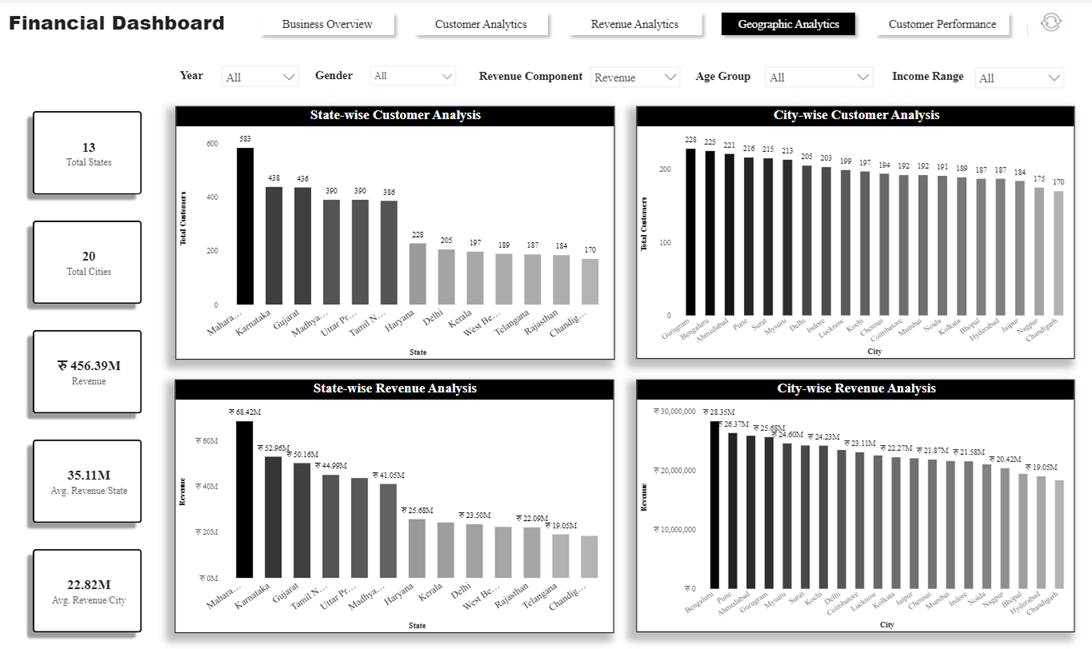

The dashboard page shown, as its layout file describes it:
{"tool":"powerbi","page":{"name":"Geographic Analytics","canvas":[1500,900],"ordinal":3},"visuals":[{"type":"group","id":"g1","title":"Group 1","box":[225,76.8,191.2,48.2],"z":0,"group":"g2"},{"type":"cardVisual","fields":{"Data":["customers csv.Total States","customers csv.Total Cities","finance_transactions csv.Revenue","customers csv.Avg. Revenue/State","customers csv.Avg. Revenue/City"]},"box":[8.4,117.7,213,782.3],"z":0},{"type":"group","id":"g2","title":"Group 5","box":[225,76.8,1245.3,48.2],"z":1000},{"type":"group","id":"g3","title":"Group 3","box":[413.2,76.8,218.8,46.5],"z":1000,"group":"g2"},{"type":"group","id":"g4","title":"Group 2","box":[941.6,78.1,265,45],"z":2000,"group":"g2"},{"type":"clusteredColumnChart","title":"State-wise Revenue Analysis","fields":{"Category":["customers csv.state"],"Y":["finance_transactions csv.Revenue"]},"box":[234.7,519.4,605,350.4],"z":2000},{"type":"group","id":"g5","title":"Group 4","box":[644.5,78.1,296.7,45],"z":3000,"group":"g2"},{"type":"clusteredColumnChart","title":"City-wise Revenue Analysis","fields":{"Category":["customers csv.city"],"Y":["finance_transactions csv.Revenue"]},"box":[869.9,519.4,604.9,349.4],"z":3000},{"type":"actionButton","box":[1408.5,0,69.2,51.7],"z":4000},{"type":"group","id":"g6","title":"Group 2","box":[1210.6,79.2,259.7,43.8],"z":4000,"group":"g2"},{"type":"textbox","box":[0,2.1,312.1,51.7],"z":5000},{"type":"pageNavigator","box":[343.1,4.1,1053,49.6],"z":6000},{"type":"slicer","fields":{"Values":["finance_transactions csv.Transaction_Year"]},"box":[288.7,76.8,126.9,47.2],"z":6000,"group":"g1"},{"type":"clusteredColumnChart","title":"State-wise Customer Analysis","fields":{"Category":["customers csv.state"],"Y":["finance_transactions csv.Total Customers"]},"box":[235.4,142.3,605,350.4],"z":6001},{"type":"clusteredColumnChart","title":"City-wise Customer Analysis","fields":{"Category":["customers csv.city"],"Y":["finance_transactions csv.Total Customers"]},"box":[870.6,142.3,604.9,349.4],"z":6002},{"type":"slicer","fields":{"Values":["customers csv.gender"]},"box":[492.6,76.8,139.4,45.8],"z":7000,"group":"g3"},{"type":"slicer","fields":{"Values":["Revenue Component.Revenue Components"]},"box":[796.7,78.1,144.6,45],"z":8000,"group":"g5"},{"type":"slicer","fields":{"Values":["customers csv.age_group"]},"box":[1037.8,78.1,168.9,44.7],"z":9000,"group":"g4"},{"type":"slicer","fields":{"Values":["customers csv.income_range"]},"box":[1326.5,79.2,143.8,44.8],"z":9000,"group":"g6"},{"type":"textbox","box":[225,85.2,63.7,30.8],"z":10000,"group":"g1"},{"type":"textbox","box":[941.6,86,96.4,30],"z":10000,"group":"g4"},{"type":"textbox","box":[1210.6,86.1,123.3,31],"z":10000,"group":"g6"},{"type":"textbox","box":[413.2,84.6,79.3,29.7],"z":10002,"group":"g3"},{"type":"textbox","box":[644.5,86.7,160,30],"z":10002,"group":"g5"}]}

Visuals, with their boxes in screenshot pixels (x1, y1, x2, y2), scaled from the page's 1500x900 canvas onto the 1092x649 screenshot:
"Group 1" group: l=164, t=55, r=303, b=90
cardVisual - customers csv.Total States x customers csv.Total Cities: l=6, t=85, r=161, b=648
"Group 5" group: l=164, t=55, r=1070, b=90
"Group 3" group: l=301, t=55, r=460, b=89
"Group 2" group: l=685, t=56, r=878, b=89
"State-wise Revenue Analysis" clusteredColumnChart: l=171, t=375, r=611, b=627
"Group 4" group: l=469, t=56, r=685, b=89
"City-wise Revenue Analysis" clusteredColumnChart: l=633, t=375, r=1074, b=627
actionButton: l=1025, t=0, r=1076, b=37
"Group 2" group: l=881, t=57, r=1070, b=89
textbox: l=0, t=2, r=227, b=39
pageNavigator: l=250, t=3, r=1016, b=39
slicer - finance_transactions csv.Transaction_Year: l=210, t=55, r=303, b=89
"State-wise Customer Analysis" clusteredColumnChart: l=171, t=103, r=612, b=355
"City-wise Customer Analysis" clusteredColumnChart: l=634, t=103, r=1074, b=355
slicer - customers csv.gender: l=359, t=55, r=460, b=88
slicer - Revenue Component.Revenue Components: l=580, t=56, r=685, b=89
slicer - customers csv.age_group: l=756, t=56, r=878, b=89
slicer - customers csv.income_range: l=966, t=57, r=1070, b=89
textbox: l=164, t=61, r=210, b=84
textbox: l=685, t=62, r=756, b=84
textbox: l=881, t=62, r=971, b=84
textbox: l=301, t=61, r=359, b=82
textbox: l=469, t=63, r=586, b=84
